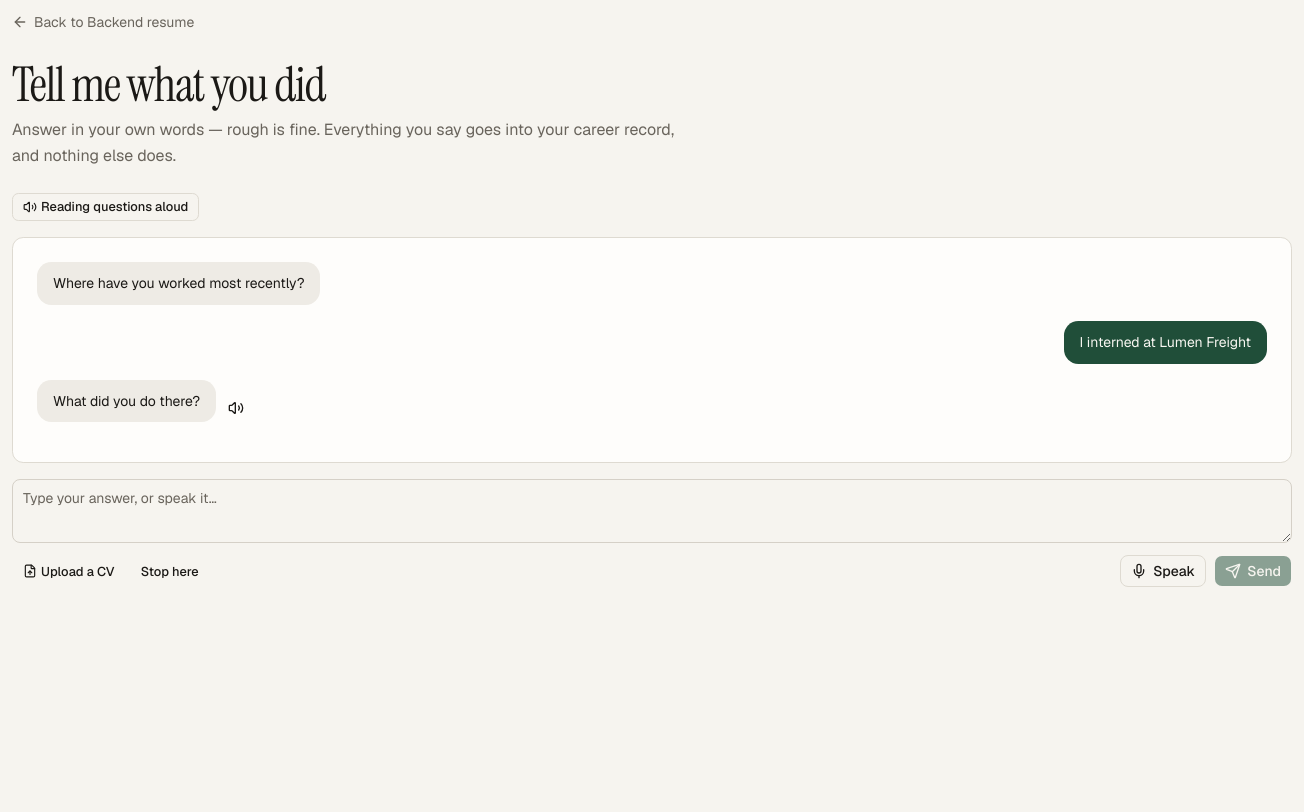
Scenario: InterviewView › sends an answer and shows what went into the record
Step 1. Type "I interned at Lumen Freight" into the text box labelled "your answer" → [652, 511], box [12, 479, 1292, 543]
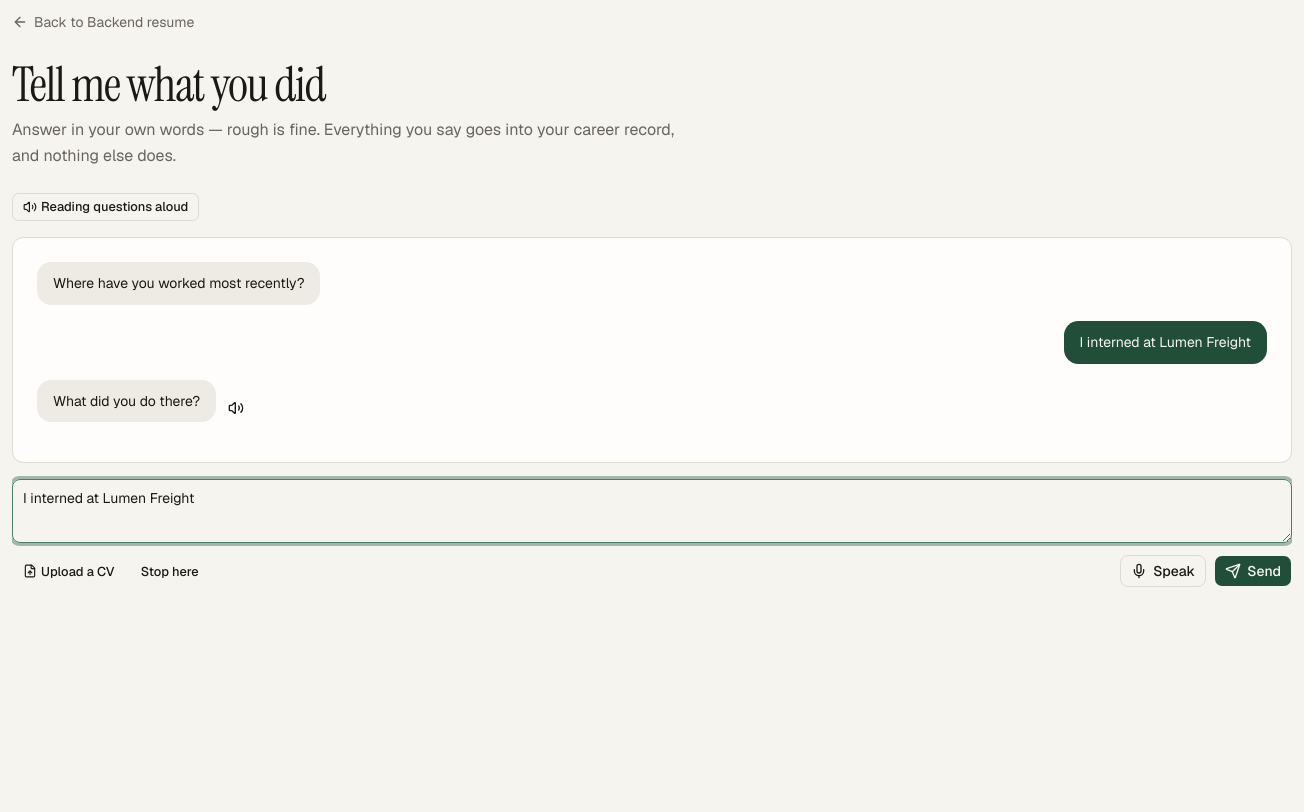
Step 2. Click the button "Send" → [1253, 571], box [1214, 555, 1292, 587]
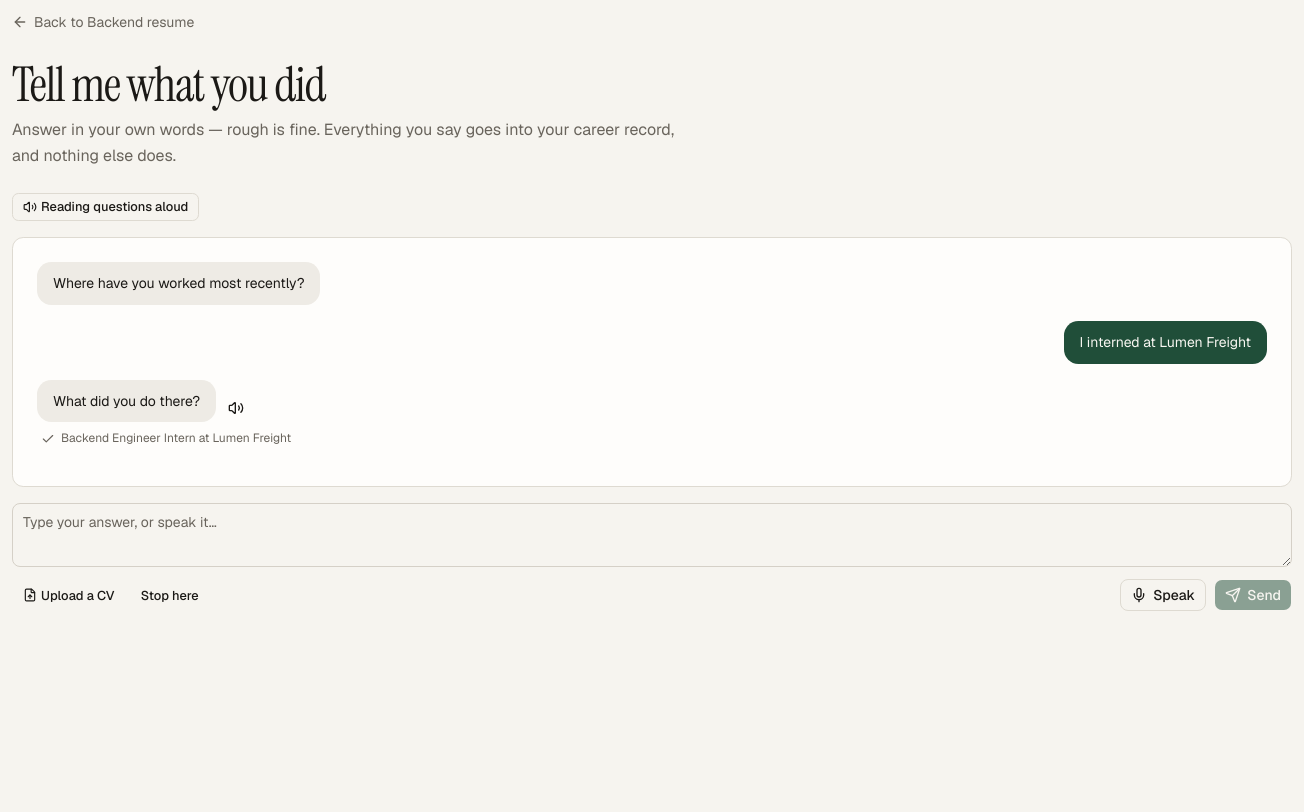
Expected: the text "What did you do there?" is shown, [37, 380, 216, 422]
Expected: the text "Backend Engineer Intern at Lumen Freight" is shown, [61, 430, 291, 446]
